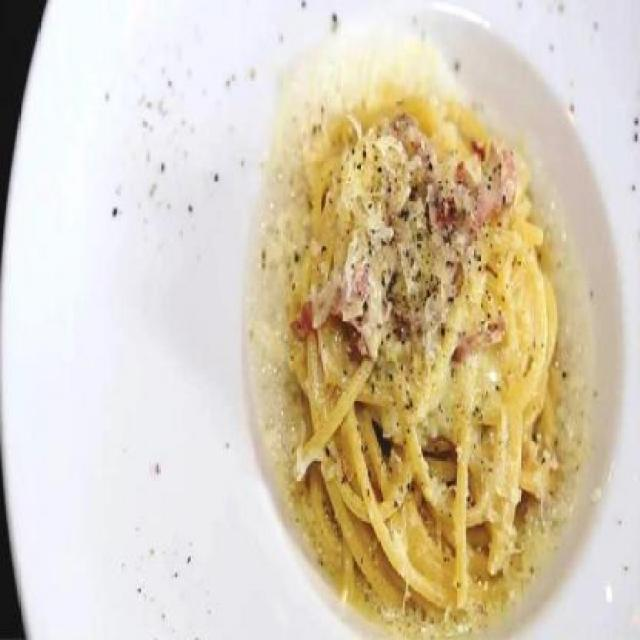Pasta with carbonara sauce: (257, 51, 608, 624)
